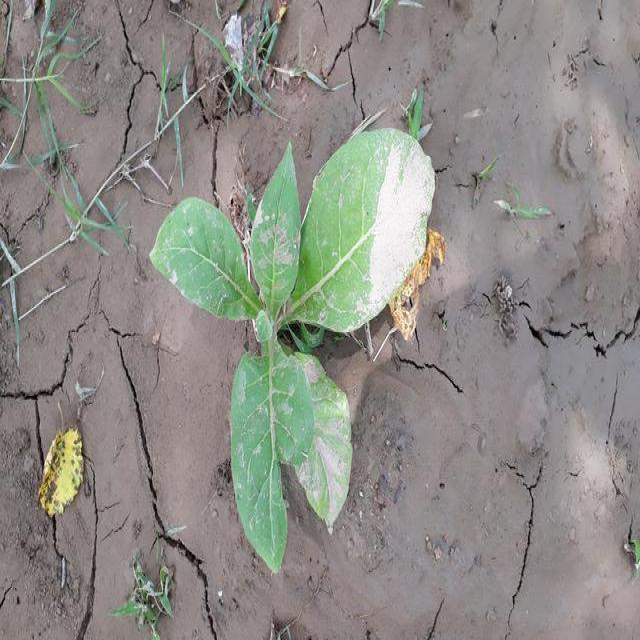crop: (161, 124, 432, 564)
